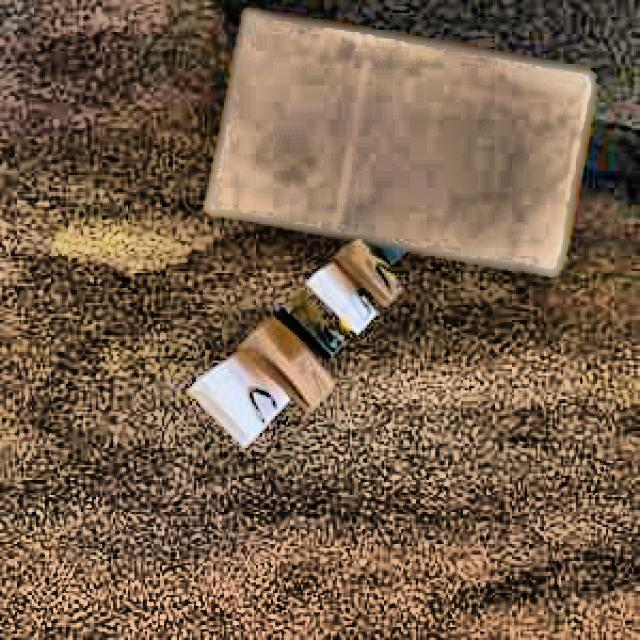Paper-bag: (179, 0, 595, 290), (162, 229, 468, 451)
